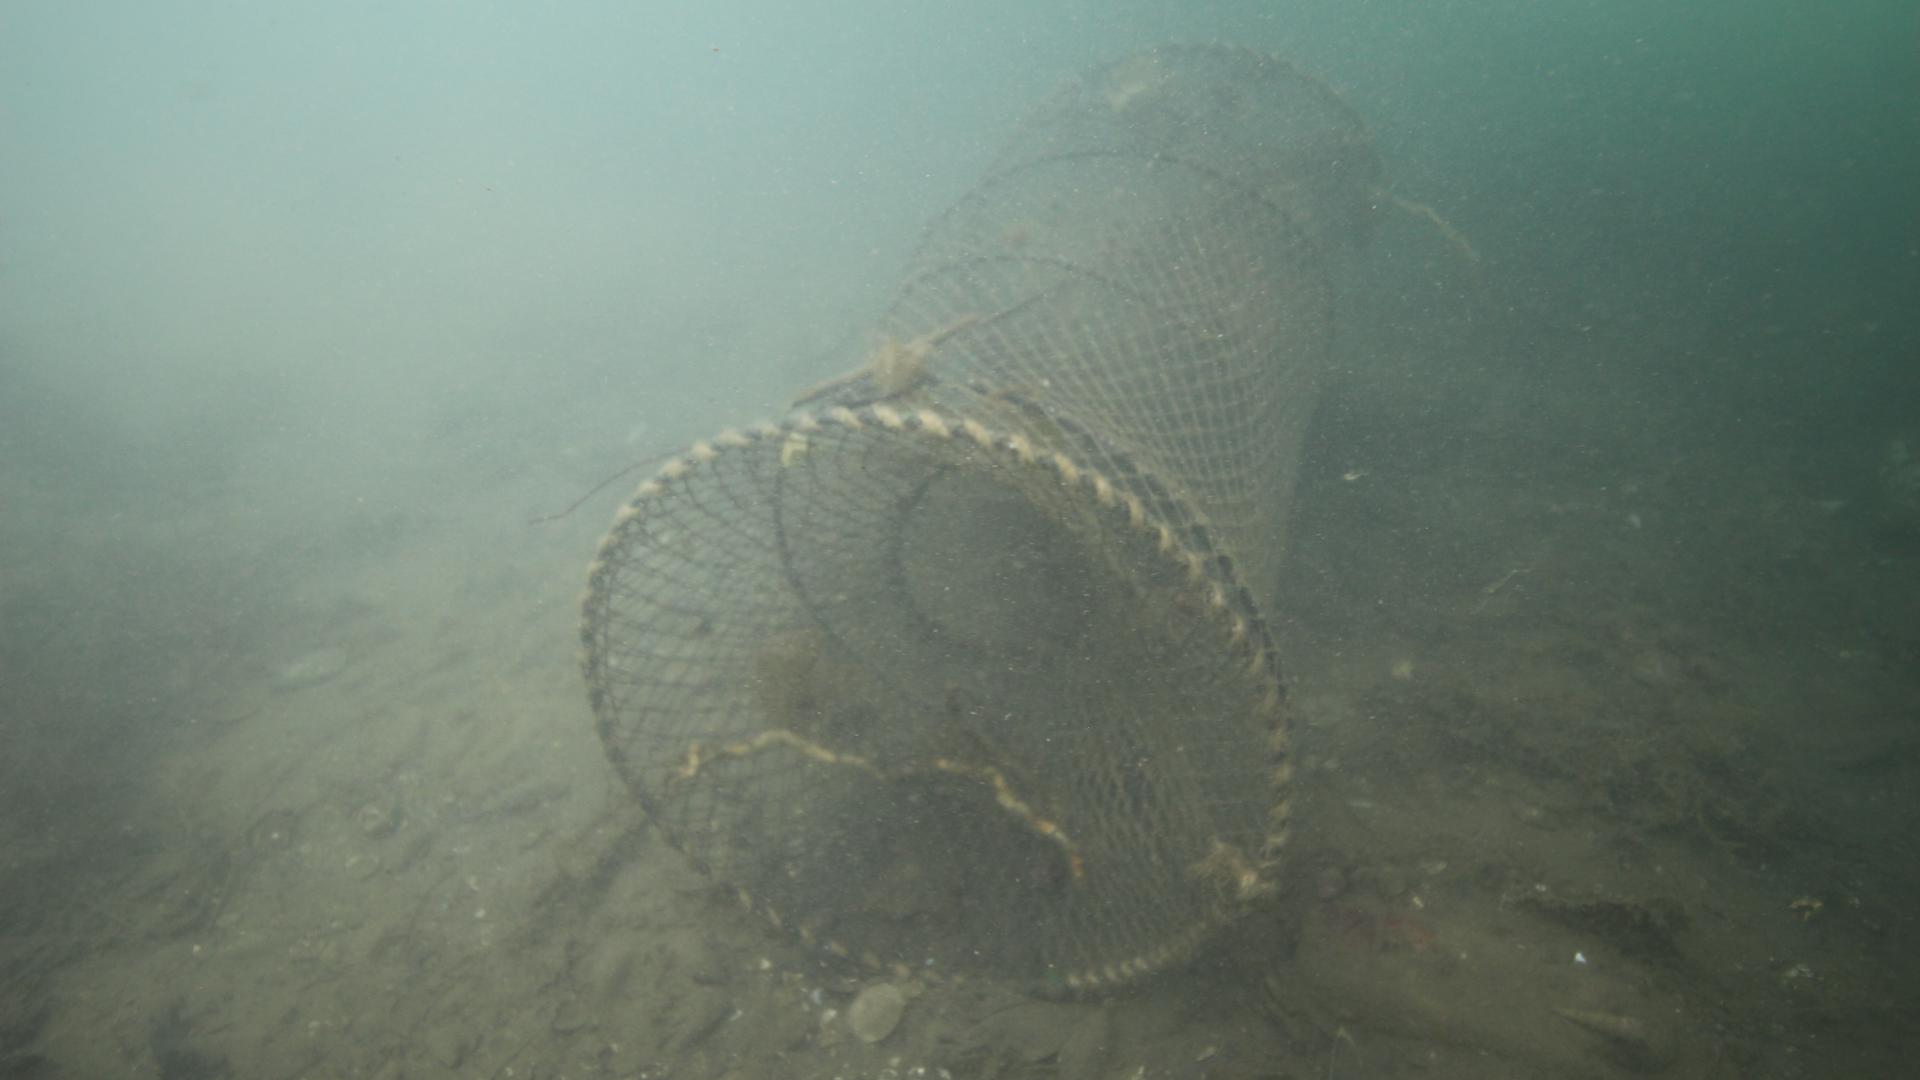spring fish trap: (568, 44, 1382, 997)
